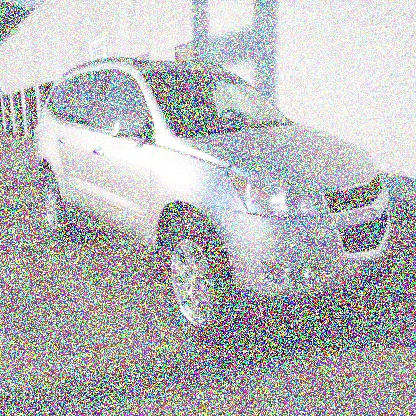Vehicle: (31, 52, 395, 354)
